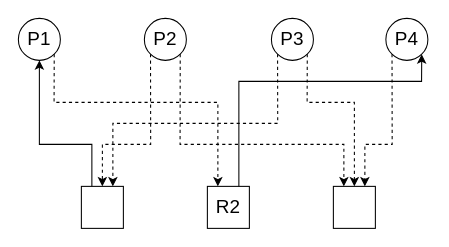
The diagram is 449 pixels wide and 247 high, and some of its shapes have lost their labels. Here are the shapes that lost their labels. From the top down, the centre of each, then its label:
the point at 101,206: R1
the point at 353,206: R3
